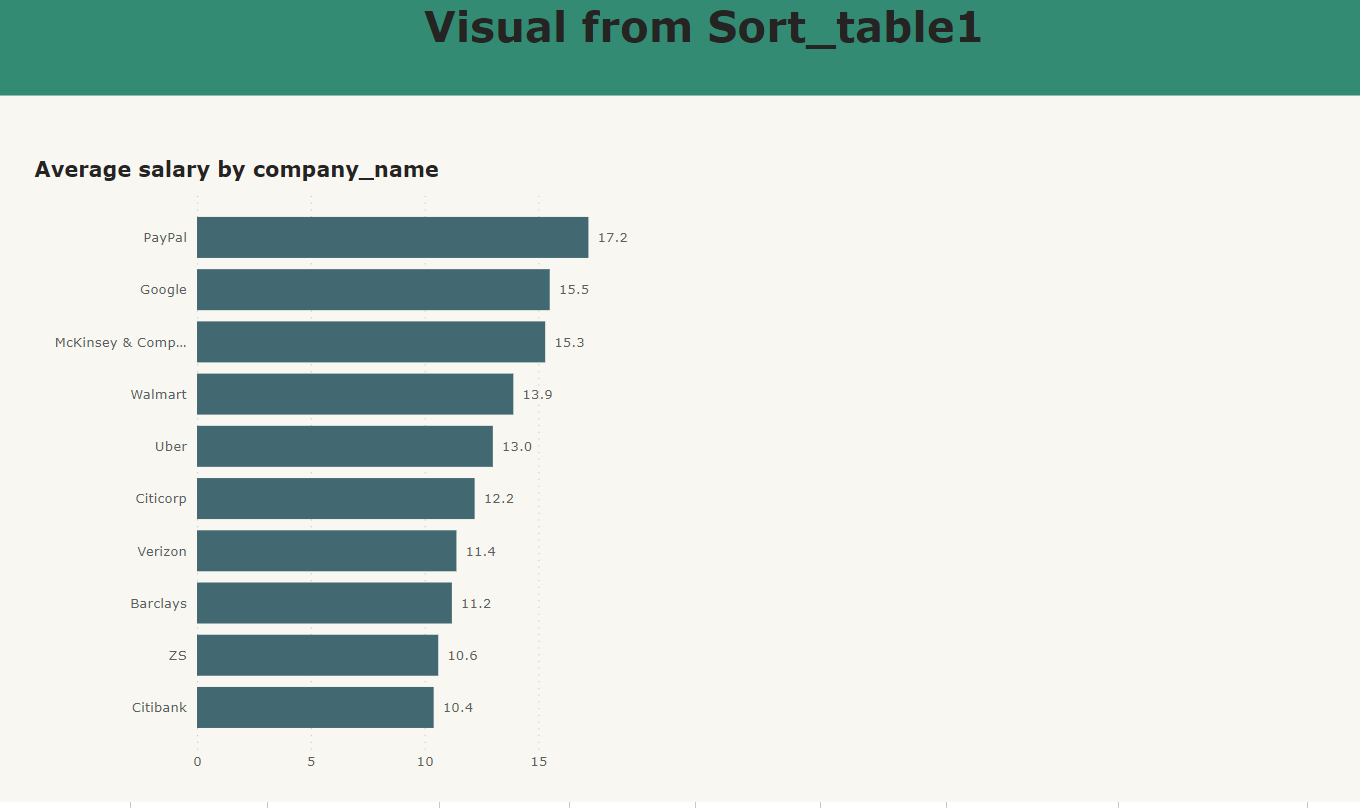

The page's visual inventory and layout, read from the dashboard file:
{"tool":"powerbi","page":{"name":"Sort_table1","canvas":[1280,720],"ordinal":4},"visuals":[{"type":"clusteredBarChart","title":"Average salary by company_name","fields":{"Category":["Sort_table1.company_name"],"Y":["Avg(Sort_table1.avg_salary)"]},"box":[38.7,144.5,548.5,556.2],"z":0},{"type":"textbox","box":[0,0,1280.3,90.3],"z":1000}]}

Visuals, with their boxes on the page's 1280x720 design canvas (x1, y1, x2, y2). These are canvas units, not pixel positions in the 1360x808 screenshot, which may show the page scaled, cropped or inside an application window:
"Average salary by company_name" clusteredBarChart: 39:144:587:701
textbox: 0:0:1280:90
